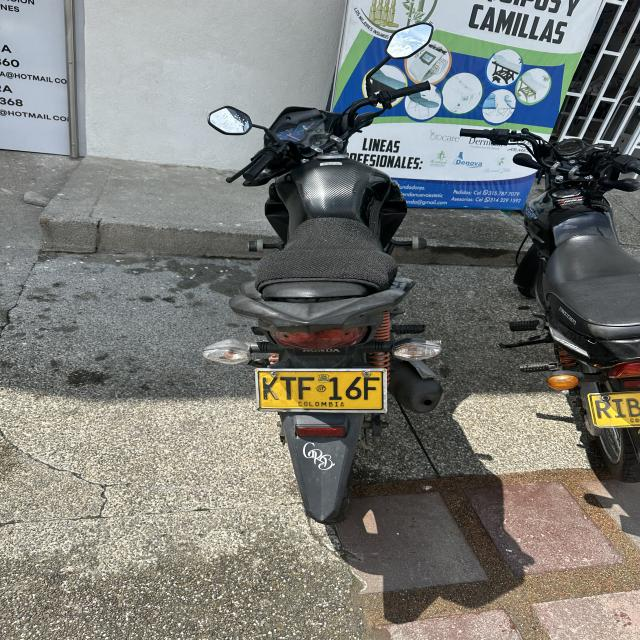number plate: (255, 368, 387, 413)
